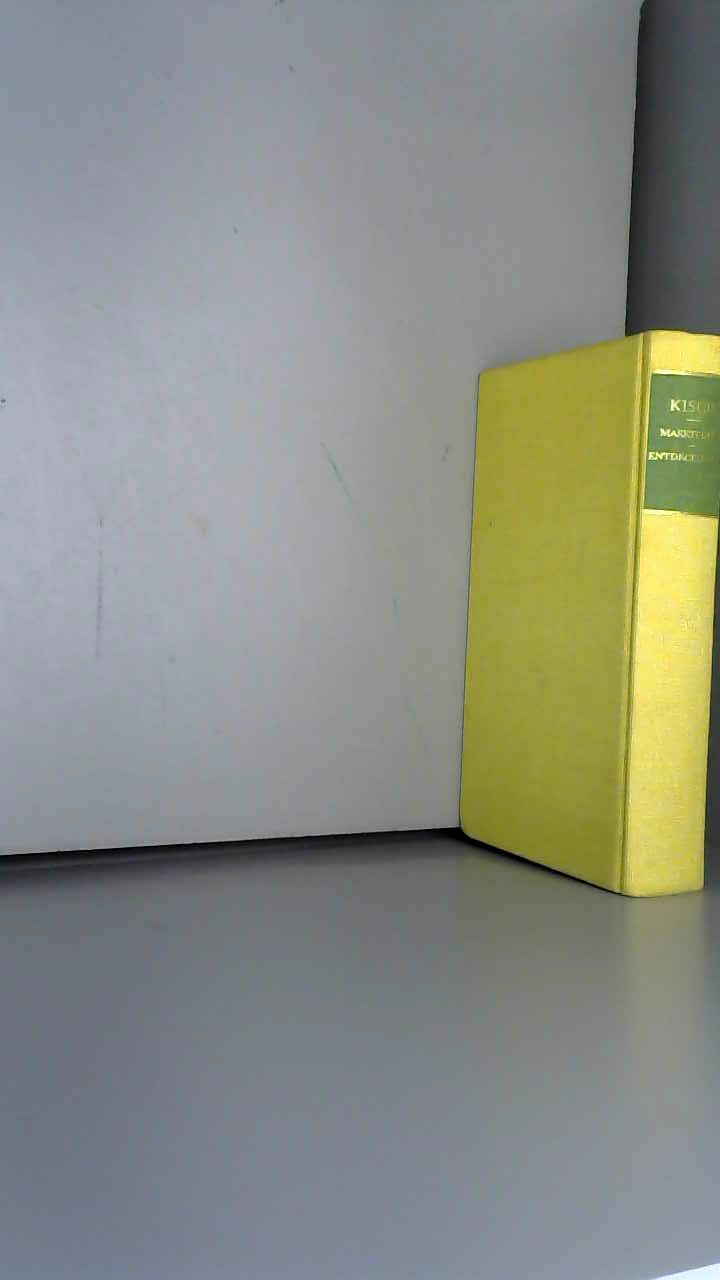book: (429, 293, 718, 937)
